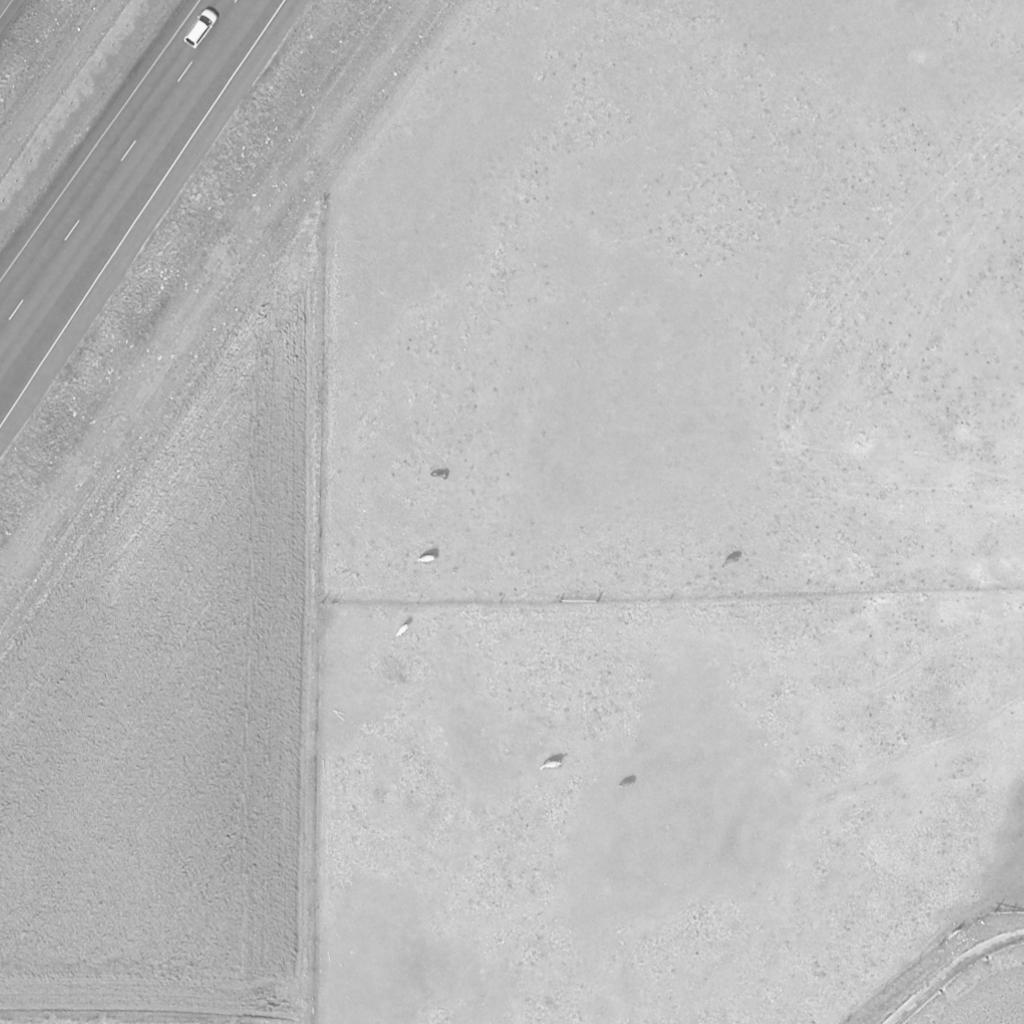vehicle: (182, 9, 218, 49)
